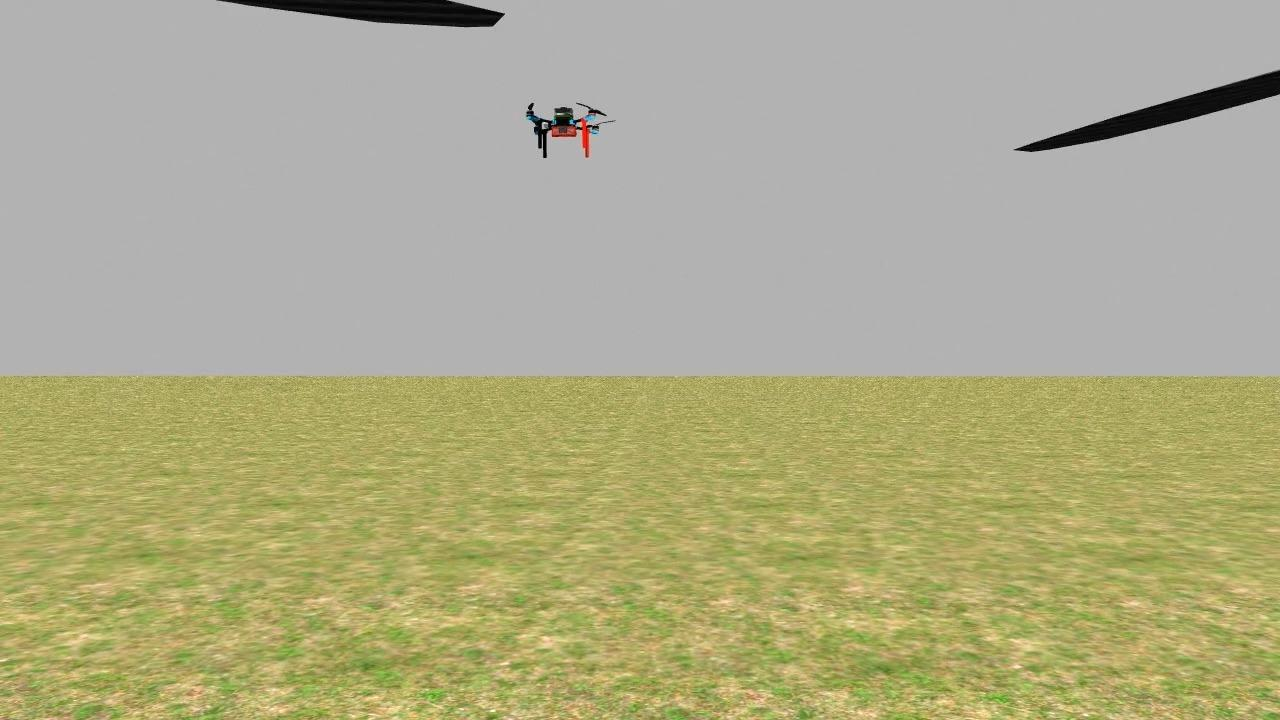UAV: (486, 80, 632, 171)
